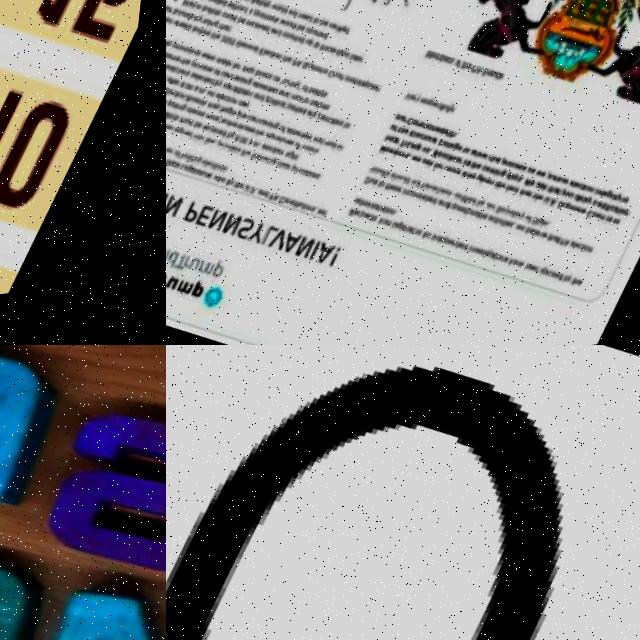0: (0, 99, 93, 230), (245, 137, 254, 147), (234, 39, 242, 49), (250, 138, 257, 148), (194, 85, 201, 93), (191, 84, 196, 92), (229, 38, 234, 45)
1: (0, 88, 39, 215), (36, 0, 116, 42)
2: (230, 38, 239, 48), (224, 36, 231, 46)
5: (71, 0, 155, 61)
8: (240, 135, 249, 145), (186, 80, 192, 89)
A: (323, 245, 348, 272), (289, 233, 313, 259), (166, 244, 177, 262), (281, 195, 290, 205), (462, 161, 471, 171), (449, 134, 458, 144), (481, 73, 490, 82), (447, 204, 454, 214), (522, 266, 530, 274), (363, 202, 371, 210), (291, 165, 299, 173), (522, 219, 530, 227), (516, 193, 524, 201), (592, 205, 600, 213), (312, 112, 320, 120), (399, 141, 407, 149), (231, 84, 239, 92), (318, 103, 326, 111), (257, 82, 265, 90), (284, 91, 292, 99), (265, 191, 272, 199), (482, 218, 490, 225), (497, 222, 505, 229), (433, 189, 440, 197), (319, 138, 326, 146), (429, 164, 436, 172), (533, 199, 540, 207), (247, 102, 255, 109), (622, 216, 629, 224), (543, 189, 551, 196), (518, 181, 526, 188), (259, 94, 266, 102), (535, 175, 543, 182), (317, 91, 324, 99), (225, 60, 233, 67), (302, 63, 309, 71), (274, 29, 281, 37), (213, 139, 220, 146), (574, 248, 581, 255), (296, 107, 303, 114), (389, 210, 395, 218), (563, 243, 569, 251), (548, 226, 554, 234), (293, 129, 299, 137), (257, 117, 263, 125), (199, 85, 205, 93), (344, 53, 350, 61), (204, 170, 210, 177), (500, 260, 506, 267), (416, 232, 422, 239), (172, 124, 178, 131), (337, 145, 343, 152), (267, 121, 273, 128), (172, 76, 178, 83), (302, 97, 308, 104), (478, 156, 484, 163), (239, 76, 245, 83), (229, 72, 235, 79), (258, 47, 264, 54), (357, 58, 363, 65), (210, 8, 216, 15), (191, 1, 197, 8), (253, 10, 259, 17), (283, 138, 288, 146), (252, 127, 257, 135), (200, 98, 205, 106), (287, 103, 292, 111), (175, 64, 180, 72), (229, 25, 234, 33), (274, 17, 279, 25), (500, 79, 505, 87), (178, 161, 184, 167), (166, 99, 172, 105), (170, 111, 175, 118), (227, 119, 232, 126), (198, 109, 203, 116), (220, 104, 225, 111), (564, 196, 569, 203), (247, 90, 252, 97), (438, 142, 443, 149), (259, 0, 264, 6), (216, 0, 222, 4), (166, 143, 169, 150)
B: (225, 106, 234, 116), (401, 154, 410, 164), (315, 102, 324, 112), (259, 71, 268, 81), (323, 22, 332, 32), (444, 60, 453, 70), (572, 284, 580, 295), (300, 26, 308, 37), (191, 95, 200, 104), (313, 89, 322, 98), (440, 155, 448, 165), (533, 271, 541, 280), (534, 234, 542, 243), (486, 218, 494, 227), (445, 193, 453, 202), (219, 80, 226, 90), (260, 83, 267, 93), (241, 18, 248, 28), (233, 133, 240, 142), (295, 130, 302, 139), (196, 25, 203, 34), (253, 0, 262, 7), (177, 8, 184, 16), (166, 109, 172, 118), (206, 5, 212, 14), (234, 180, 240, 188), (198, 15, 204, 23), (166, 50, 171, 59), (201, 122, 206, 129), (486, 208, 491, 215)
C: (594, 218, 604, 229), (413, 121, 422, 133), (286, 198, 295, 208), (444, 145, 453, 154), (333, 74, 341, 83), (489, 171, 497, 179), (519, 169, 527, 177), (271, 53, 279, 61), (442, 108, 450, 116), (310, 30, 318, 38), (283, 163, 291, 170), (588, 252, 595, 260), (601, 208, 608, 216), (586, 192, 594, 199), (225, 71, 232, 79), (286, 33, 293, 41), (500, 223, 507, 230), (461, 199, 468, 206), (512, 216, 519, 223), (520, 194, 527, 201), (277, 148, 283, 156), (248, 126, 254, 134), (284, 102, 290, 110), (427, 138, 433, 146), (178, 90, 184, 97), (229, 97, 235, 104), (453, 159, 459, 166), (619, 214, 625, 221), (228, 83, 234, 90), (205, 64, 211, 71), (256, 23, 262, 30), (217, 162, 222, 170), (288, 80, 293, 88), (417, 195, 422, 202), (215, 126, 220, 133), (255, 117, 260, 124), (207, 76, 212, 83), (179, 67, 184, 74), (226, 12, 231, 19), (201, 111, 206, 117)
D: (0, 514, 97, 640), (174, 249, 191, 270), (479, 203, 488, 215), (245, 65, 254, 77), (379, 88, 388, 100), (311, 17, 320, 29), (348, 30, 357, 42), (236, 15, 245, 26), (463, 247, 472, 257), (567, 282, 576, 292), (242, 101, 251, 111), (345, 124, 354, 134), (241, 87, 250, 97), (495, 160, 504, 170), (327, 36, 336, 46), (295, 25, 304, 35), (340, 52, 349, 61), (272, 192, 280, 202), (412, 182, 420, 192), (325, 139, 333, 149), (582, 203, 590, 213), (365, 203, 373, 212), (195, 155, 202, 165), (454, 207, 461, 217), (229, 60, 236, 70), (269, 27, 276, 37), (286, 9, 293, 19), (225, 1, 233, 9), (214, 79, 221, 88), (195, 131, 201, 141), (229, 131, 235, 141), (266, 95, 272, 105), (238, 86, 244, 96), (236, 146, 243, 154), (290, 95, 298, 102), (281, 31, 288, 39), (305, 39, 311, 48), (373, 181, 380, 188), (514, 181, 521, 188), (446, 242, 452, 249), (205, 100, 211, 107), (191, 14, 196, 21)
E: (203, 204, 225, 230), (263, 50, 272, 59), (449, 243, 457, 251), (362, 213, 370, 221), (402, 227, 410, 235), (467, 248, 475, 256), (485, 254, 493, 262), (398, 189, 406, 197), (579, 249, 587, 257), (405, 191, 413, 199), (585, 251, 593, 259), (224, 129, 232, 137), (379, 171, 387, 179), (552, 229, 560, 237), (266, 133, 274, 141), (247, 114, 255, 122), (493, 185, 501, 193), (392, 151, 400, 159), (221, 92, 229, 100), (226, 94, 234, 102), (538, 187, 546, 195), (318, 114, 326, 122), (587, 204, 595, 212), (250, 91, 258, 99), (198, 73, 206, 81), (464, 151, 472, 159), (583, 191, 591, 199), (611, 200, 619, 208), (572, 187, 580, 195), (446, 134, 454, 142), (292, 59, 300, 67), (320, 69, 328, 77), (266, 26, 274, 34), (325, 34, 333, 42), (308, 17, 316, 25), (505, 81, 513, 89), (491, 76, 499, 84), (247, 184, 254, 192), (529, 269, 536, 277), (456, 245, 464, 252), (373, 217, 381, 224), (538, 271, 545, 279), (541, 273, 549, 280), (213, 162, 221, 169), (551, 240, 559, 247), (492, 220, 499, 228), (539, 236, 547, 243), (514, 228, 522, 235), (380, 183, 388, 190), (274, 146, 281, 154), (268, 144, 275, 152), (203, 122, 210, 130), (448, 195, 456, 202), (509, 215, 517, 222), (229, 108, 236, 116), (479, 181, 487, 188), (581, 215, 589, 222), (405, 156, 413, 163), (509, 191, 517, 198), (547, 203, 555, 210), (185, 69, 192, 77), (416, 136, 423, 144), (279, 90, 287, 97), (421, 137, 429, 144), (457, 149, 465, 156), (549, 179, 556, 187), (577, 189, 585, 196), (504, 164, 511, 172), (523, 171, 531, 178), (190, 59, 197, 67), (208, 65, 215, 73), (377, 88, 384, 96), (416, 99, 423, 107), (428, 103, 435, 111), (439, 107, 446, 115), (182, 20, 189, 28), (199, 28, 207, 35), (169, 16, 176, 24), (361, 60, 369, 67), (332, 48, 339, 56), (345, 30, 353, 37), (327, 23, 334, 31), (305, 16, 312, 24), (448, 62, 455, 70), (437, 58, 444, 66), (473, 70, 480, 78), (192, 165, 199, 172), (208, 160, 215, 167), (253, 152, 260, 159), (289, 164, 296, 171), (545, 238, 552, 245), (466, 212, 473, 219), (436, 202, 443, 209), (530, 233, 537, 240), (440, 192, 447, 199), (452, 196, 459, 203), (293, 142, 300, 149), (238, 123, 245, 130), (256, 129, 263, 136), (314, 137, 321, 144), (424, 163, 431, 170), (591, 218, 598, 225), (396, 140, 403, 147), (485, 170, 492, 177), (605, 210, 612, 217), (411, 133, 418, 140), (329, 72, 336, 79), (246, 43, 253, 50), (336, 51, 343, 58), (304, 28, 311, 35), (183, 162, 189, 170), (204, 111, 210, 119), (175, 88, 181, 96), (465, 175, 471, 183), (204, 75, 210, 83), (181, 56, 187, 64), (173, 52, 179, 60), (186, 21, 192, 29), (302, 38, 308, 46), (565, 282, 571, 289), (240, 148, 246, 155), (192, 131, 198, 138), (218, 128, 224, 135), (464, 200, 470, 207), (169, 88, 175, 95), (305, 110, 311, 117), (327, 117, 333, 124), (212, 78, 218, 85), (276, 88, 282, 95), (268, 86, 274, 93), (270, 75, 276, 82), (211, 54, 217, 61), (216, 56, 222, 63), (211, 31, 217, 38), (169, 5, 175, 12), (245, 19, 251, 26), (336, 26, 342, 33), (174, 147, 179, 155), (212, 125, 217, 133), (317, 150, 322, 158), (312, 135, 317, 143), (233, 62, 238, 70), (253, 21, 258, 29), (329, 212, 334, 219), (215, 173, 220, 180), (168, 157, 173, 164), (589, 288, 594, 295), (519, 218, 524, 225), (477, 204, 482, 211), (304, 133, 309, 140), (180, 79, 185, 86), (343, 123, 348, 130), (358, 82, 363, 89), (253, 45, 258, 52), (271, 51, 276, 58), (221, 34, 226, 41), (259, 24, 264, 31), (222, 0, 228, 5), (166, 13, 169, 21)
F: (440, 166, 447, 177), (446, 109, 453, 120), (257, 154, 264, 164), (536, 223, 543, 233), (304, 145, 311, 155), (288, 127, 295, 137), (513, 192, 520, 202), (614, 213, 621, 223), (462, 66, 469, 76), (310, 88, 317, 97), (431, 236, 437, 246), (221, 69, 227, 78), (237, 63, 243, 72), (387, 222, 393, 230), (473, 203, 479, 211), (183, 152, 189, 159), (342, 29, 347, 37), (204, 28, 208, 36), (401, 131, 406, 137), (174, 79, 178, 85)
G: (615, 199, 624, 210), (552, 274, 561, 284), (187, 104, 196, 114), (280, 123, 289, 133), (508, 176, 517, 186), (252, 79, 261, 89), (405, 227, 414, 236), (496, 257, 505, 266), (484, 180, 493, 189), (240, 42, 249, 51), (461, 148, 469, 158), (218, 19, 226, 29), (233, 106, 240, 116), (296, 153, 303, 162), (276, 133, 282, 143), (204, 157, 211, 165), (301, 84, 309, 91), (185, 127, 191, 136), (279, 161, 285, 168), (196, 165, 201, 173)
H: (248, 151, 257, 161), (391, 139, 400, 149), (457, 136, 465, 147), (517, 265, 526, 274), (400, 178, 408, 188), (468, 68, 476, 78), (429, 187, 436, 198), (544, 202, 552, 211), (583, 287, 590, 297), (262, 131, 269, 141), (216, 33, 223, 43), (234, 122, 242, 130), (244, 183, 251, 192), (530, 197, 537, 206), (182, 68, 189, 77), (186, 153, 194, 160), (505, 189, 512, 197), (558, 196, 566, 203), (407, 132, 415, 139), (225, 178, 232, 185), (395, 188, 401, 196), (480, 169, 486, 177), (225, 25, 231, 33), (238, 5, 244, 13), (188, 59, 194, 66), (560, 243, 565, 251), (300, 156, 305, 164), (327, 48, 332, 56), (289, 59, 294, 66), (166, 3, 170, 11), (166, 155, 169, 164)
I: (319, 244, 332, 265), (166, 193, 177, 214), (613, 224, 621, 235), (513, 226, 520, 237), (592, 252, 599, 263), (543, 236, 550, 247), (487, 182, 494, 193), (302, 108, 309, 119), (379, 207, 386, 217), (470, 201, 477, 211), (471, 177, 478, 187), (501, 175, 508, 185), (603, 197, 610, 207), (591, 193, 598, 203), (340, 28, 347, 38), (219, 127, 225, 138), (192, 47, 198, 58), (220, 164, 227, 173), (627, 218, 634, 227), (611, 213, 618, 222), (374, 206, 380, 215), (335, 120, 341, 129), (187, 46, 193, 55), (170, 6, 176, 15), (261, 25, 267, 34), (295, 82, 300, 92), (311, 207, 317, 215), (197, 168, 203, 176), (549, 276, 555, 284), (182, 128, 188, 136), (508, 226, 514, 234), (273, 136, 279, 144), (621, 204, 627, 212), (308, 100, 314, 108), (247, 78, 253, 86), (504, 261, 509, 270), (182, 103, 187, 112), (275, 124, 280, 133), (477, 252, 482, 260), (494, 257, 499, 265), (394, 213, 399, 221), (630, 207, 635, 215), (199, 3, 204, 11), (237, 110, 241, 119), (304, 98, 308, 107), (506, 225, 511, 232), (344, 148, 349, 155), (236, 4, 240, 12), (344, 29, 348, 37), (303, 205, 308, 211), (440, 240, 445, 246), (198, 157, 203, 163), (315, 175, 320, 181), (310, 173, 315, 179), (429, 200, 434, 206), (294, 155, 299, 161), (281, 150, 286, 156), (339, 147, 344, 153), (470, 167, 475, 173), (241, 89, 246, 95), (277, 55, 282, 61), (199, 134, 203, 141), (247, 126, 251, 133), (617, 215, 621, 222), (280, 101, 284, 108), (219, 0, 223, 7), (274, 161, 278, 167), (235, 148, 239, 154), (474, 215, 478, 221), (411, 194, 415, 200), (183, 93, 187, 99), (234, 99, 238, 105), (410, 231, 414, 237), (213, 21, 216, 28), (248, 0, 253, 4), (284, 103, 287, 109), (196, 3, 199, 9), (243, 0, 248, 3)
J: (0, 345, 92, 535)
K: (550, 192, 559, 202), (435, 166, 444, 175), (188, 23, 195, 32), (456, 161, 461, 169), (280, 19, 285, 27)
L: (269, 227, 291, 253), (171, 249, 181, 266), (261, 0, 268, 10), (285, 8, 292, 18), (582, 250, 588, 259), (541, 236, 547, 245), (201, 75, 207, 84), (419, 136, 425, 145), (481, 156, 487, 165), (580, 189, 586, 198), (259, 48, 265, 57), (453, 112, 459, 121), (260, 0, 266, 9), (187, 164, 193, 172), (263, 157, 269, 165), (411, 182, 417, 190), (453, 136, 459, 144), (452, 112, 458, 120), (210, 20, 216, 28), (293, 25, 299, 33), (490, 219, 495, 228), (354, 58, 359, 67), (414, 231, 419, 239), (210, 138, 215, 146), (195, 108, 200, 116), (179, 103, 184, 111), (289, 105, 294, 113), (324, 105, 329, 113), (483, 157, 488, 165), (267, 51, 272, 59), (213, 9, 218, 17), (234, 16, 239, 24), (213, 8, 218, 16), (287, 164, 291, 173), (263, 156, 267, 165), (224, 95, 229, 102), (590, 206, 595, 213), (220, 0, 225, 7), (213, 161, 217, 169), (401, 227, 406, 233), (194, 156, 199, 162), (390, 176, 395, 182), (341, 146, 346, 152), (278, 101, 283, 107), (441, 145, 446, 151), (323, 93, 327, 100), (271, 147, 275, 153), (174, 113, 178, 119), (173, 90, 177, 96), (455, 149, 459, 155), (454, 148, 458, 154), (321, 93, 325, 99), (166, 62, 169, 69), (167, 63, 170, 70), (197, 3, 200, 10), (173, 112, 176, 118), (181, 104, 184, 110), (323, 106, 326, 112), (307, 100, 310, 106), (245, 0, 249, 2)
M: (184, 279, 207, 299), (207, 261, 226, 278), (386, 149, 396, 160), (331, 142, 340, 151), (584, 215, 593, 224), (203, 88, 212, 97), (422, 125, 431, 134), (323, 70, 332, 79), (268, 15, 277, 24), (431, 56, 440, 65), (213, 101, 221, 110), (452, 171, 461, 179), (297, 95, 305, 104), (220, 58, 229, 66), (185, 116, 193, 124), (212, 114, 220, 122), (397, 153, 405, 161), (474, 179, 482, 187), (498, 174, 506, 182), (394, 225, 402, 232), (370, 204, 377, 212), (260, 143, 268, 150), (419, 147, 426, 155), (186, 0, 194, 7), (441, 60, 448, 68), (333, 119, 340, 126), (429, 128, 436, 135), (211, 0, 219, 2)
N: (304, 238, 326, 264), (215, 209, 237, 235), (230, 215, 252, 240), (171, 195, 193, 220), (166, 39, 175, 49), (479, 253, 487, 261), (555, 277, 563, 285), (226, 166, 234, 174), (450, 206, 458, 214), (439, 202, 447, 210), (455, 197, 463, 205), (237, 111, 245, 119), (238, 100, 246, 108), (472, 165, 480, 173), (261, 95, 269, 103), (288, 92, 296, 100), (315, 208, 322, 216), (269, 192, 277, 199), (460, 246, 467, 254), (546, 274, 553, 282), (510, 262, 517, 270), (200, 157, 207, 165), (399, 214, 406, 222), (188, 129, 195, 137), (422, 197, 430, 204), (412, 194, 420, 201), (479, 216, 487, 223), (279, 137, 287, 144), (184, 104, 191, 112), (260, 118, 267, 126), (497, 187, 505, 194), (216, 91, 224, 98), (505, 177, 513, 184), (234, 85, 241, 93), (632, 207, 640, 214), (606, 198, 613, 206), (437, 131, 444, 139), (297, 84, 304, 92), (248, 44, 256, 51), (173, 17, 180, 25), (186, 11, 193, 19), (278, 30, 285, 38), (443, 240, 450, 247), (170, 146, 177, 153), (320, 175, 327, 182), (419, 185, 426, 192), (322, 140, 329, 147), (598, 196, 605, 203), (271, 87, 278, 94), (302, 15, 309, 22), (495, 78, 502, 85), (286, 151, 292, 159), (634, 219, 640, 227), (198, 49, 204, 57), (297, 36, 303, 44), (295, 201, 301, 208), (471, 250, 477, 257), (377, 207, 383, 214), (276, 160, 282, 167), (347, 148, 353, 155), (277, 125, 283, 132), (306, 134, 312, 141), (201, 4, 207, 11), (201, 134, 206, 142), (250, 79, 255, 87), (284, 56, 289, 64), (168, 146, 174, 152), (600, 256, 605, 263), (292, 153, 297, 160), (242, 124, 247, 131), (188, 93, 193, 100), (311, 101, 316, 108), (216, 21, 221, 28), (320, 33, 325, 40), (293, 11, 298, 18), (233, 74, 238, 80), (251, 0, 256, 3)
O: (166, 368, 572, 640), (291, 200, 299, 208), (228, 178, 236, 186), (434, 237, 442, 245), (507, 261, 515, 269), (260, 154, 268, 162), (206, 135, 214, 143), (419, 196, 427, 204), (534, 223, 542, 231), (300, 144, 308, 152), (285, 127, 293, 135), (457, 173, 465, 181), (624, 229, 632, 237), (573, 199, 581, 207), (494, 172, 502, 180), (434, 129, 442, 137), (277, 77, 285, 85), (418, 124, 426, 132), (179, 9, 187, 17), (319, 19, 325, 29), (420, 234, 428, 241), (222, 165, 230, 172), (476, 215, 484, 222), (282, 151, 290, 158), (493, 210, 501, 217), (310, 148, 317, 156), (234, 99, 242, 106), (213, 90, 220, 98), (449, 158, 457, 165), (445, 156, 452, 164), (630, 218, 637, 226), (397, 129, 405, 136), (473, 153, 480, 161), (307, 88, 315, 95), (402, 119, 410, 126), (263, 73, 271, 80), (338, 75, 345, 83), (350, 79, 357, 87), (279, 55, 286, 63), (320, 45, 328, 52), (295, 12, 303, 19), (388, 186, 395, 193), (595, 255, 602, 262), (422, 186, 429, 193), (444, 169, 451, 176), (601, 221, 608, 228), (515, 168, 522, 175), (485, 158, 492, 165), (450, 146, 457, 153), (431, 140, 438, 147), (194, 48, 201, 55), (176, 113, 182, 121), (406, 180, 412, 188), (177, 101, 183, 109), (184, 92, 190, 100), (324, 93, 330, 101), (182, 44, 188, 52), (242, 5, 248, 13), (266, 1, 272, 9), (313, 207, 319, 214), (317, 174, 323, 181), (305, 170, 311, 177), (352, 126, 358, 133), (219, 69, 225, 76), (205, 29, 211, 36), (313, 30, 319, 37), (261, 13, 267, 20), (560, 279, 565, 287), (182, 149, 187, 157), (267, 156, 272, 164), (196, 97, 201, 105), (275, 99, 280, 107), (595, 194, 600, 202), (252, 68, 257, 76), (240, 64, 245, 72), (173, 40, 178, 48), (368, 85, 373, 93), (291, 34, 296, 42), (280, 6, 285, 14), (392, 223, 397, 230), (191, 153, 196, 160), (396, 213, 401, 220), (326, 106, 331, 113), (202, 63, 207, 70), (216, 9, 221, 16), (229, 13, 234, 20), (289, 22, 294, 29), (461, 66, 466, 73), (229, 145, 234, 151), (166, 49, 168, 57), (166, 72, 168, 79)
P: (191, 200, 213, 226), (199, 281, 220, 302), (222, 261, 238, 281), (223, 140, 232, 150), (254, 138, 263, 148), (575, 210, 584, 220), (323, 114, 332, 124), (292, 104, 301, 114), (554, 180, 563, 190), (373, 84, 382, 94), (477, 71, 486, 81), (255, 67, 263, 78), (434, 104, 443, 113), (277, 194, 285, 204), (270, 96, 278, 106), (173, 98, 180, 108), (453, 243, 461, 251), (296, 61, 304, 69), (510, 165, 517, 174), (315, 65, 322, 74), (314, 41, 321, 50), (371, 83, 377, 93), (569, 247, 577, 254), (423, 149, 431, 156), (299, 168, 306, 175), (192, 106, 198, 114), (196, 60, 202, 67), (177, 42, 183, 49), (257, 11, 263, 18), (244, 112, 249, 119)
Q: (365, 212, 374, 222), (459, 209, 466, 217)
R: (169, 275, 182, 290), (193, 255, 204, 269), (357, 211, 366, 221), (466, 163, 474, 171), (234, 74, 242, 82), (227, 143, 233, 151), (319, 151, 325, 159), (409, 157, 415, 165), (182, 79, 188, 87), (316, 113, 322, 121), (608, 210, 614, 218), (281, 78, 287, 86), (344, 77, 350, 85), (317, 68, 323, 76), (365, 60, 371, 68), (339, 27, 345, 35), (452, 63, 458, 71), (212, 173, 218, 180), (563, 281, 569, 288), (302, 169, 308, 176), (209, 124, 215, 131), (501, 212, 507, 219), (516, 217, 522, 224), (291, 141, 297, 148), (203, 98, 209, 105), (448, 170, 454, 177), (404, 143, 410, 150), (330, 119, 336, 126), (299, 108, 305, 115), (436, 142, 442, 149), (426, 103, 432, 110), (250, 21, 256, 28), (246, 113, 251, 121), (608, 223, 613, 231), (579, 213, 584, 221), (214, 54, 219, 62), (360, 82, 365, 90), (208, 30, 213, 38), (330, 48, 335, 56), (562, 184, 568, 190), (438, 238, 443, 245), (378, 171, 383, 178), (189, 70, 194, 77), (620, 203, 625, 210), (199, 62, 204, 69), (410, 121, 415, 128), (243, 66, 248, 73), (256, 46, 261, 53), (207, 18, 212, 25), (276, 18, 281, 25), (425, 235, 430, 241), (389, 223, 394, 229), (295, 167, 300, 173), (412, 146, 417, 152), (513, 168, 518, 174), (294, 83, 299, 89), (420, 101, 425, 107), (387, 211, 392, 216), (173, 8, 178, 13), (178, 149, 182, 155), (468, 201, 472, 207), (528, 221, 532, 227), (176, 55, 180, 61), (250, 68, 254, 74), (463, 176, 467, 181), (181, 44, 184, 50)
S: (21, 370, 166, 629), (244, 219, 266, 245), (566, 209, 575, 219), (558, 206, 567, 216), (529, 171, 538, 181), (503, 213, 512, 222), (540, 225, 549, 234), (564, 184, 573, 193), (487, 75, 496, 84), (307, 64, 315, 74), (258, 188, 266, 197), (513, 263, 521, 271), (381, 208, 389, 216), (430, 200, 438, 208), (402, 190, 410, 198), (397, 177, 405, 185), (242, 76, 250, 84), (245, 77, 252, 86), (172, 158, 178, 168), (297, 202, 305, 209), (323, 177, 330, 185), (243, 149, 251, 156), (469, 213, 477, 220), (296, 143, 304, 150), (411, 158, 419, 165), (616, 226, 623, 234), (526, 172, 534, 179), (538, 176, 546, 183), (548, 190, 554, 199), (427, 235, 434, 242), (308, 111, 315, 118), (350, 56, 357, 63), (320, 209, 326, 217), (490, 255, 496, 263), (179, 127, 185, 135), (519, 229, 525, 237), (194, 119, 200, 127), (322, 151, 328, 159), (209, 100, 215, 108), (255, 92, 261, 100), (191, 70, 197, 78), (331, 107, 337, 115), (215, 67, 221, 75), (270, 3, 276, 11), (378, 218, 384, 225), (176, 125, 182, 132), (181, 115, 187, 122), (393, 176, 399, 183), (220, 117, 226, 124), (526, 183, 532, 190), (329, 95, 335, 102), (274, 76, 280, 83), (190, 47, 196, 54), (433, 105, 439, 112), (194, 14, 200, 21), (221, 11, 227, 18), (264, 14, 270, 21), (455, 64, 461, 71), (326, 212, 331, 220), (200, 168, 205, 176), (412, 230, 417, 238), (231, 167, 236, 175), (312, 172, 317, 180), (383, 172, 388, 180), (207, 112, 212, 120), (434, 165, 439, 173), (434, 152, 439, 160), (202, 50, 207, 58), (192, 24, 197, 32), (195, 73, 201, 79), (382, 220, 387, 227), (427, 198, 432, 205), (272, 134, 277, 141), (301, 132, 306, 139), (271, 122, 276, 129), (274, 123, 279, 130), (265, 85, 270, 92), (212, 66, 217, 73), (170, 52, 175, 59), (363, 83, 368, 90), (168, 75, 173, 81)
T: (181, 252, 202, 274), (166, 270, 175, 290), (492, 256, 499, 266), (581, 286, 588, 296), (391, 211, 398, 221), (442, 203, 449, 213), (520, 218, 527, 228), (621, 227, 628, 237), (267, 2, 274, 12), (502, 260, 509, 269), (246, 150, 253, 159), (591, 253, 598, 262), (425, 186, 432, 195), (169, 99, 176, 108), (565, 197, 572, 206), (248, 90, 255, 99), (176, 65, 183, 74), (299, 37, 306, 46), (501, 80, 508, 89), (331, 213, 337, 223), (474, 250, 480, 260), (253, 128, 259, 138), (248, 7, 254, 17), (407, 145, 414, 153), (204, 135, 210, 144), (469, 152, 475, 161), (346, 77, 352, 86), (317, 19, 323, 28), (504, 224, 510, 232), (556, 242, 562, 250), (386, 185, 392, 193), (512, 227, 518, 235), (178, 114, 184, 122), (314, 149, 320, 157), (232, 121, 238, 129), (523, 195, 529, 203), (555, 194, 561, 202), (209, 77, 215, 85), (445, 110, 451, 118), (223, 24, 229, 32), (324, 47, 330, 55), (219, 10, 225, 18), (236, 4, 242, 12), (220, 163, 225, 172), (384, 209, 389, 218), (472, 213, 477, 222), (470, 201, 475, 210), (301, 109, 306, 118), (309, 207, 315, 214), (201, 170, 207, 177), (419, 233, 425, 240), (285, 140, 291, 147), (261, 131, 267, 138), (223, 118, 229, 125), (537, 200, 543, 207), (611, 225, 617, 232), (541, 202, 547, 209), (177, 78, 183, 85), (625, 218, 631, 225), (611, 213, 617, 220), (478, 168, 484, 175), (274, 88, 280, 95), (404, 131, 410, 138), (230, 27, 236, 34), (266, 15, 272, 22), (207, 171, 212, 179), (176, 160, 181, 168), (279, 149, 284, 157), (303, 157, 308, 165), (197, 120, 202, 128), (469, 177, 474, 185), (329, 107, 334, 115), (429, 140, 434, 148), (610, 199, 615, 207), (455, 136, 460, 144), (215, 33, 220, 41), (466, 68, 471, 76), (304, 205, 309, 212), (241, 183, 246, 190), (181, 162, 186, 169), (380, 220, 385, 227), (434, 201, 439, 208), (309, 135, 314, 142), (181, 92, 186, 99), (503, 189, 508, 196), (338, 122, 343, 129), (350, 126, 355, 133), (340, 123, 345, 130), (327, 94, 332, 101), (287, 58, 292, 65), (365, 85, 370, 92), (360, 59, 365, 66), (299, 14, 304, 21), (281, 102, 285, 110), (566, 246, 571, 252), (551, 230, 556, 236), (245, 126, 250, 132), (528, 198, 533, 204), (590, 194, 595, 200), (624, 205, 629, 211), (302, 204, 306, 211), (394, 188, 398, 195), (166, 74, 170, 81), (276, 54, 280, 61), (322, 35, 326, 42), (392, 176, 396, 182), (546, 228, 550, 234), (185, 58, 189, 64), (166, 122, 169, 129), (233, 98, 236, 104), (319, 45, 322, 51)
U: (174, 276, 192, 294), (198, 257, 213, 273), (252, 186, 261, 196), (552, 204, 561, 214), (369, 215, 377, 223), (462, 210, 470, 218), (377, 182, 385, 190), (577, 201, 585, 209), (414, 146, 422, 154), (558, 182, 566, 190), (290, 81, 298, 89), (182, 10, 190, 18), (497, 211, 505, 218), (386, 173, 393, 181), (408, 181, 415, 189), (216, 116, 224, 123), (604, 223, 612, 230), (572, 211, 579, 219), (569, 186, 576, 194), (500, 163, 508, 170), (405, 120, 413, 127), (341, 77, 349, 84), (310, 41, 317, 49), (229, 120, 236, 127), (312, 65, 319, 72), (245, 8, 252, 15), (294, 35, 300, 43), (210, 171, 216, 178), (191, 118, 197, 125), (317, 32, 323, 39), (291, 23, 297, 30), (233, 14, 238, 22), (283, 7, 288, 15), (307, 205, 312, 212), (450, 111, 455, 118), (210, 19, 215, 26), (289, 140, 294, 146)
V: (3, 562, 166, 640), (277, 228, 302, 256), (410, 98, 419, 109), (525, 269, 533, 276), (549, 239, 556, 247), (459, 161, 466, 169), (429, 151, 437, 158), (166, 15, 173, 23), (436, 191, 443, 198), (483, 254, 489, 262), (307, 170, 313, 178), (222, 128, 228, 136), (264, 119, 270, 127), (491, 184, 497, 192), (186, 45, 192, 53), (333, 25, 339, 33), (307, 148, 313, 155), (178, 55, 184, 62), (508, 225, 513, 233), (354, 81, 360, 87), (264, 25, 269, 32), (233, 146, 238, 152)
W: (531, 185, 542, 196), (220, 175, 229, 184), (177, 18, 186, 27), (283, 20, 292, 29), (274, 4, 283, 13), (167, 122, 175, 131), (169, 63, 177, 72), (205, 51, 213, 60), (270, 158, 278, 166), (525, 231, 533, 239), (419, 161, 427, 168), (490, 159, 497, 167), (442, 132, 449, 140), (230, 3, 238, 10), (216, 140, 223, 147), (545, 178, 552, 185)
X: (267, 73, 273, 81)
Y: (256, 222, 279, 248), (595, 204, 604, 216), (347, 51, 356, 63), (237, 179, 246, 189), (236, 132, 245, 142), (250, 101, 259, 111), (624, 203, 633, 213), (489, 206, 497, 216), (529, 219, 536, 229), (570, 197, 577, 207), (224, 80, 231, 89), (201, 15, 208, 24), (577, 284, 584, 292), (221, 104, 229, 111), (522, 182, 530, 189), (456, 111, 462, 120), (423, 100, 429, 108), (166, 83, 170, 91)
